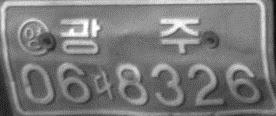0: (20, 62, 54, 104)
2: (187, 62, 224, 106)
3: (151, 61, 184, 107)
6: (225, 62, 261, 104), (56, 61, 91, 104)
8: (116, 62, 148, 106)
다: (59, 15, 201, 57), (93, 66, 115, 103)
영: (16, 17, 53, 57)
